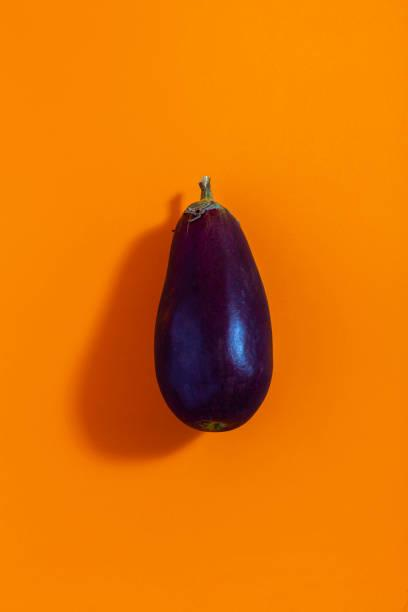Brinjal: (145, 173, 279, 436)
